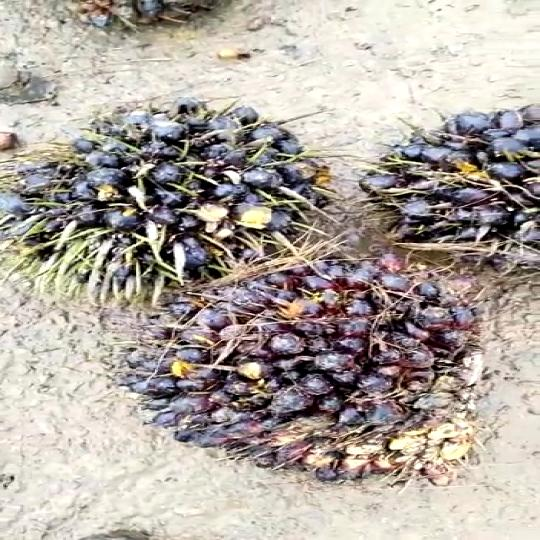mentah: (138, 255, 501, 492), (10, 100, 338, 279)
